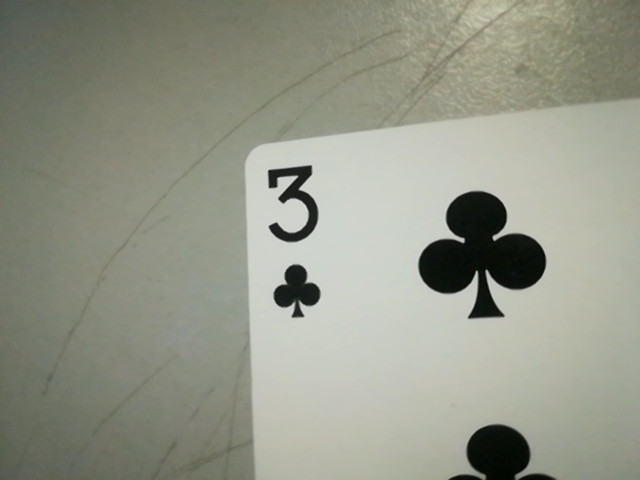mh 3: (251, 151, 337, 326)
